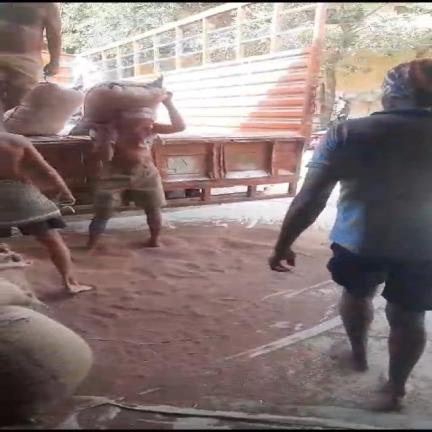Zone-Counting: (80, 77, 185, 249)
